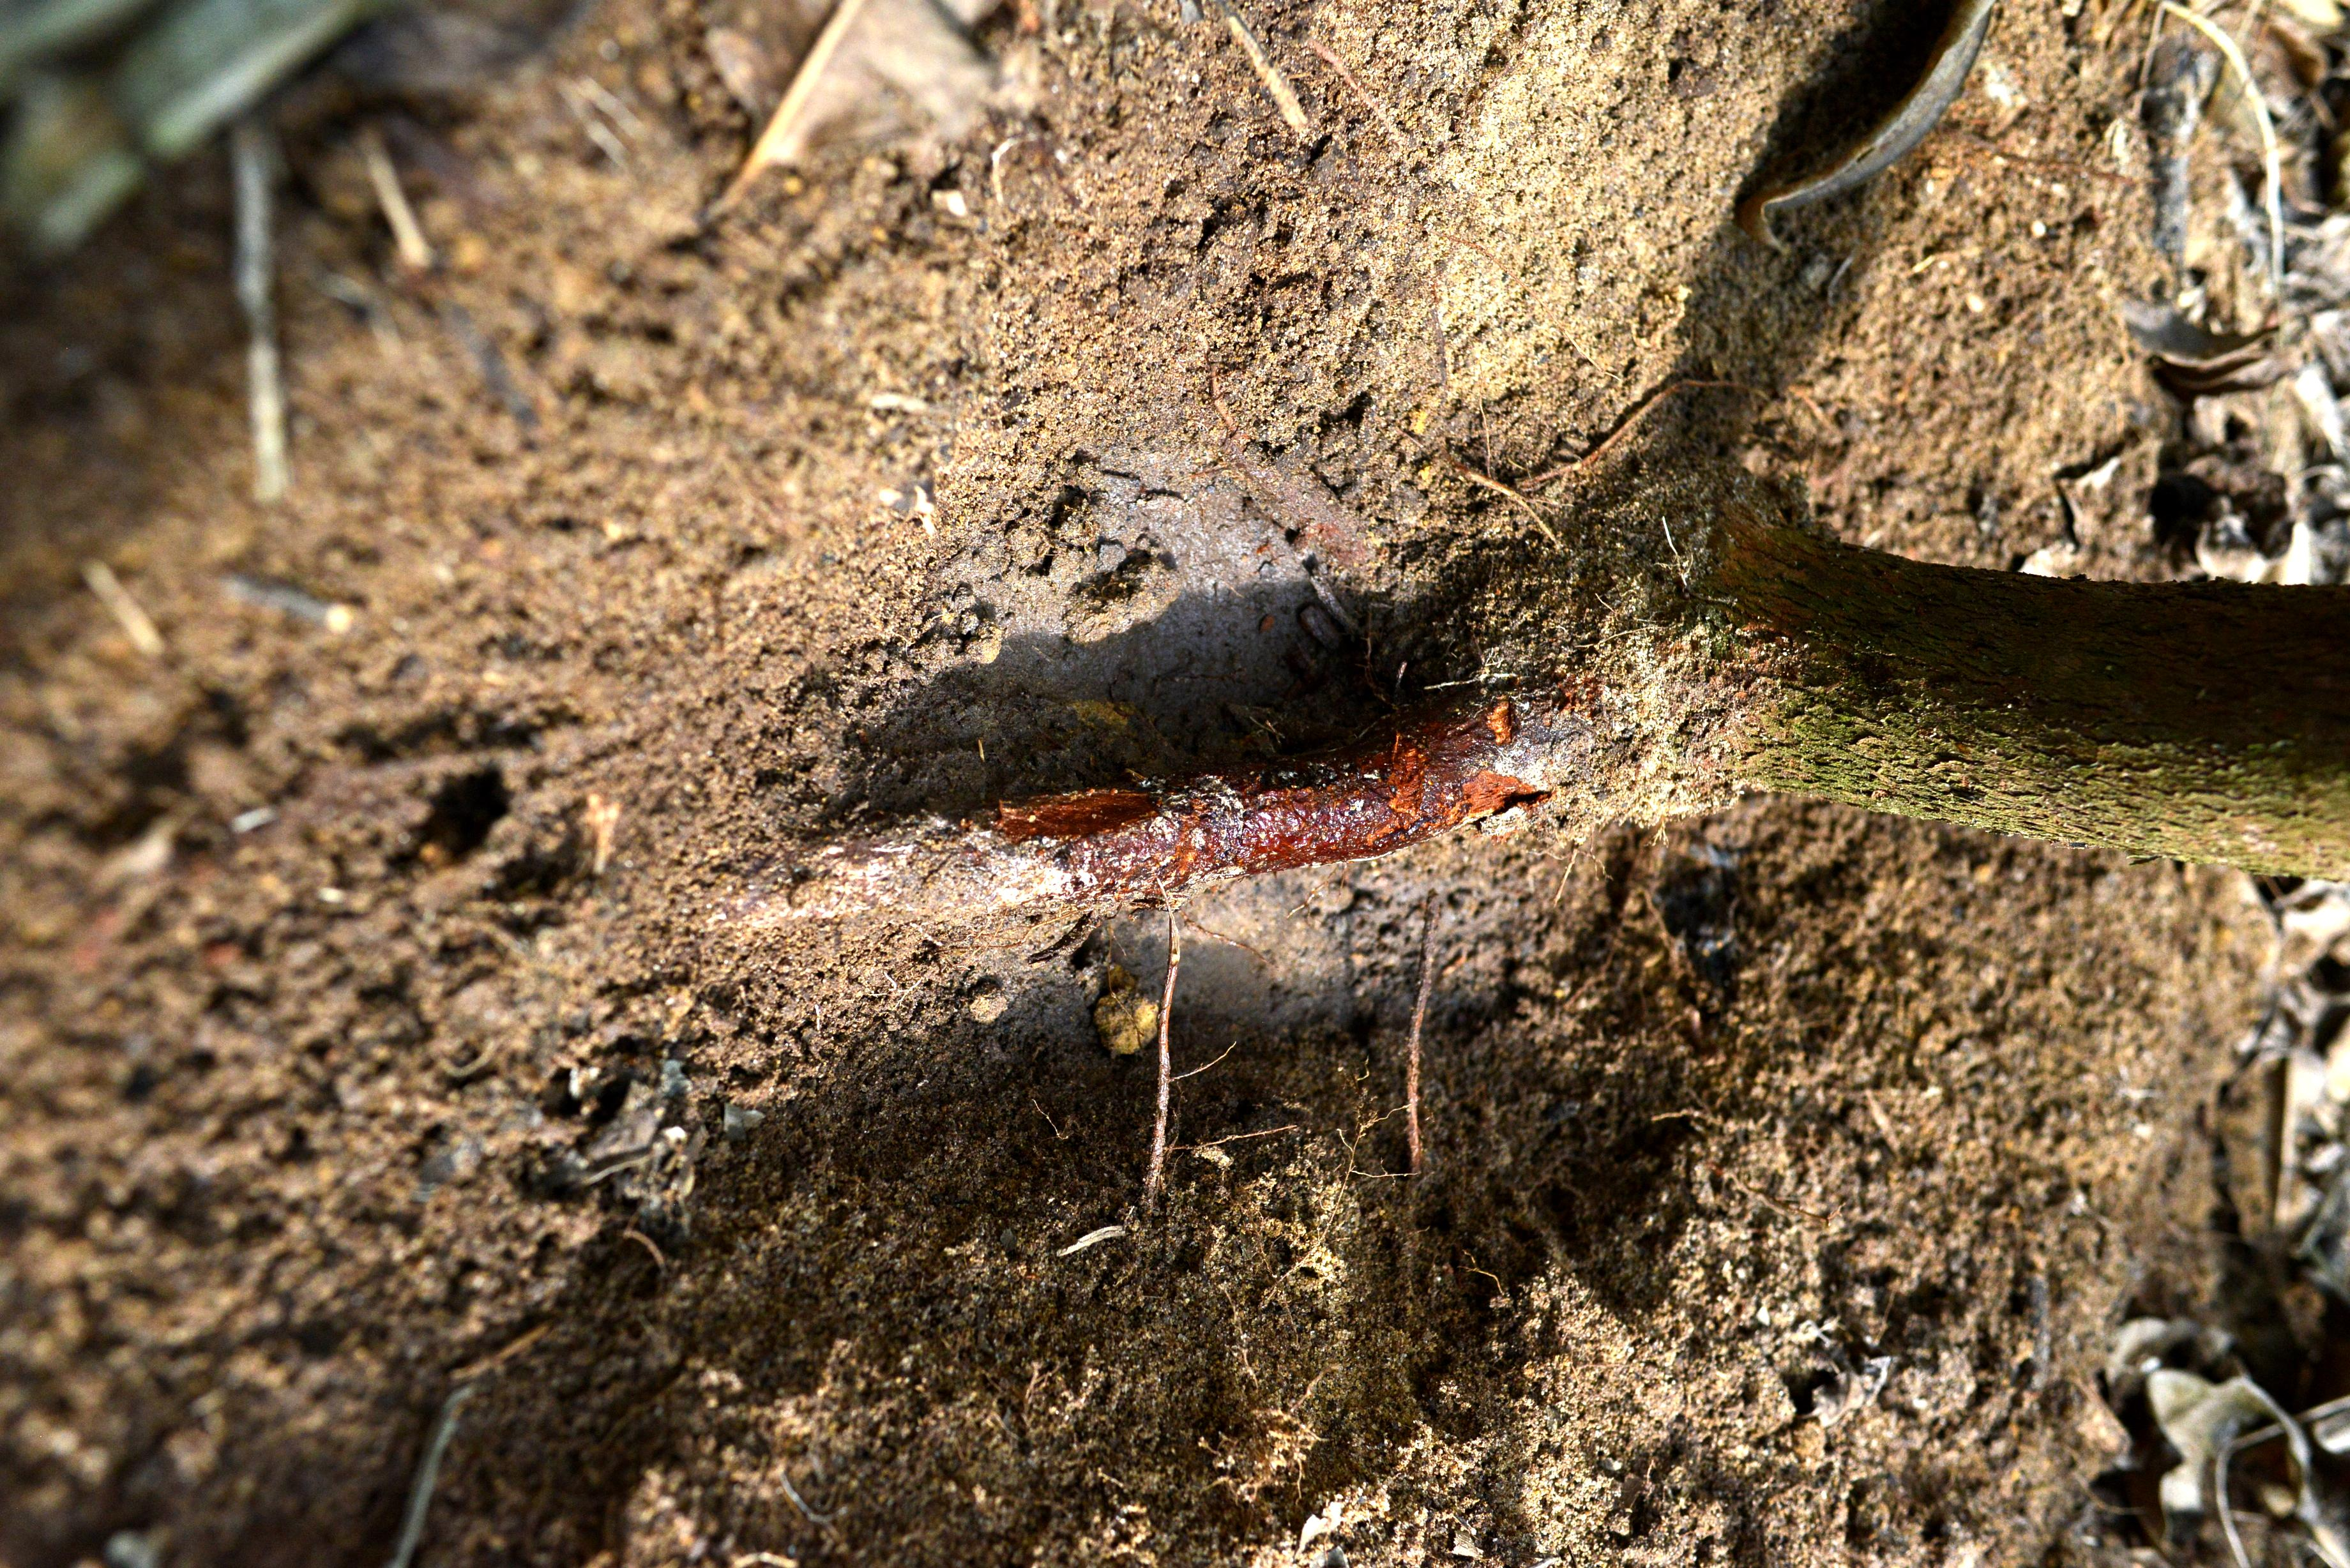Ganoderma - Mycelium: (1564, 630, 1708, 829), (707, 828, 917, 954), (992, 850, 1101, 917), (1494, 735, 1557, 786), (1477, 808, 1535, 850), (1139, 808, 1176, 842), (1190, 826, 1207, 856)
Red Root Rot - Secretion: (978, 724, 1519, 887)
